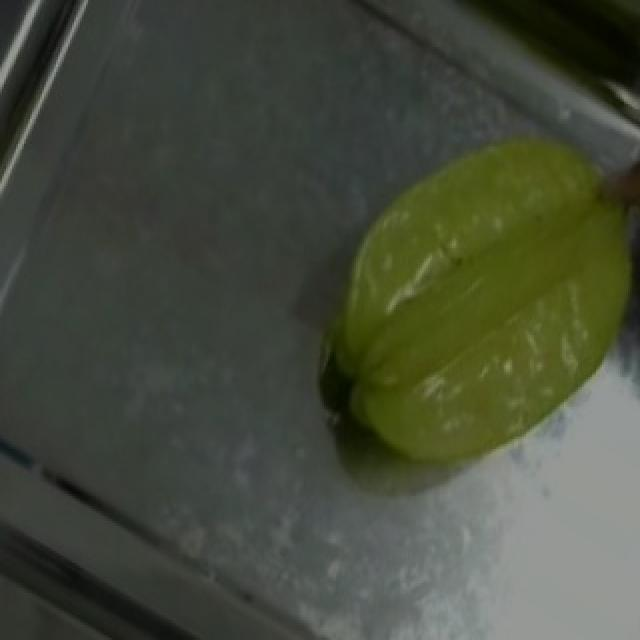fruit: (270, 67, 640, 486)
